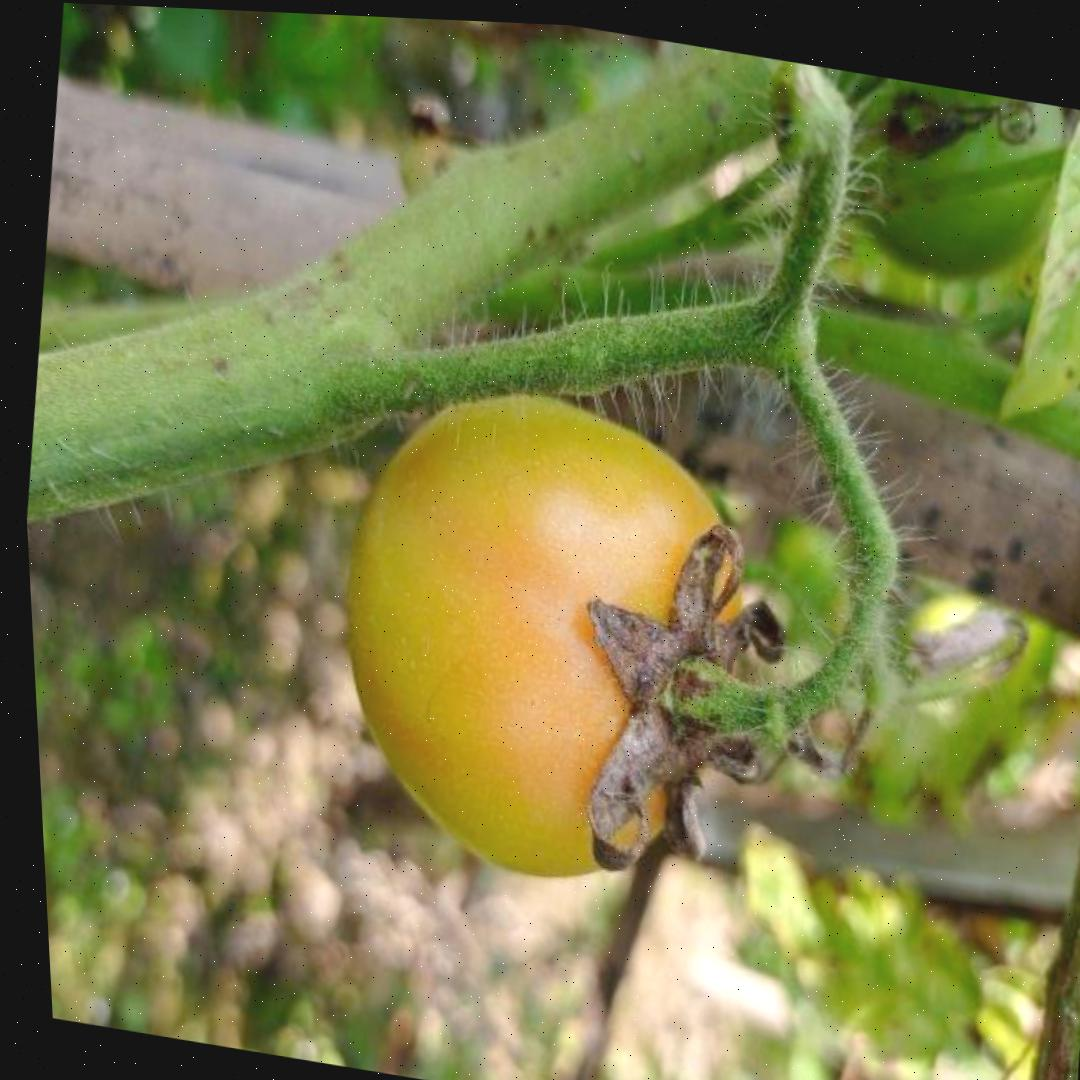setengah_matang: (301, 353, 789, 914)
